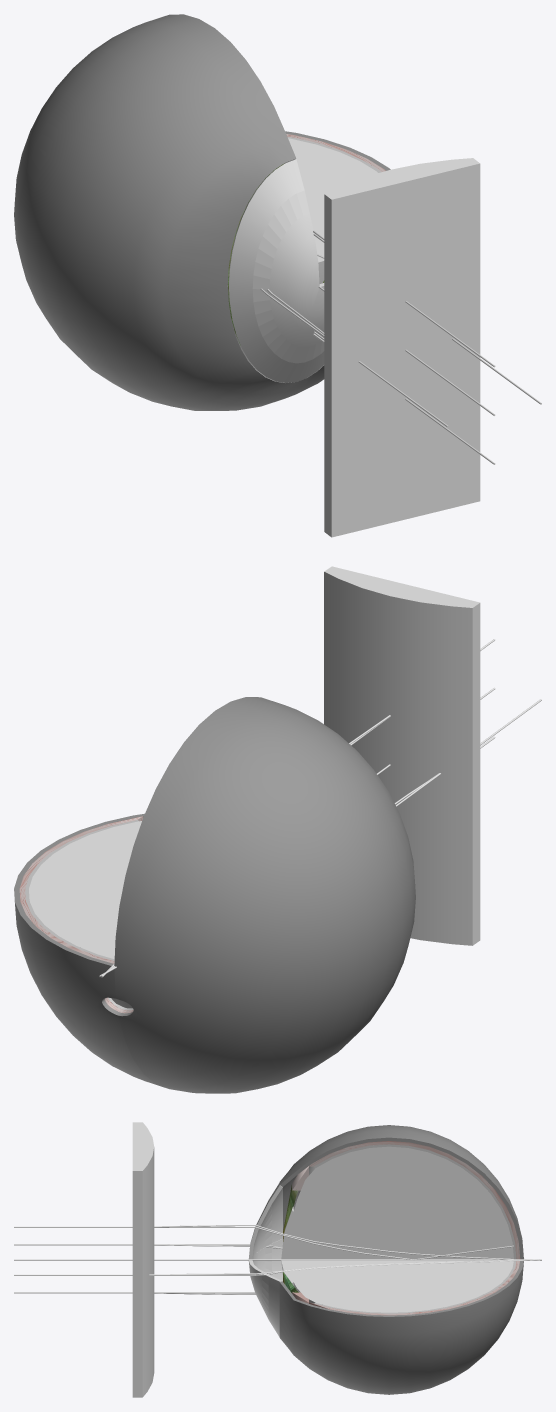
The model's file is AstigmatismEye.FBX.
The picture shows the model from 3 angles, top to bottom: view 1: azimuth 30°, elevation 25°; view 2: azimuth 150°, elevation 25°; view 3: azimuth 270°, elevation 25°; orthographic projection. The views are drawn at different scales.
Parts seen in each view (by area): view 1: bSclera, Box001, bCornea, aCorpusVitreum, aCornea, aSclera; view 2: bSclera, Box001, aCorpusVitreum, aSclera, aChoroidea, aRetina; view 3: bCorpusVitreum, aSclera, aCorpusVitreum, Box001, bSclera, aCornea, bCornea, bChoroidea, bLens, cBefore1, cBefore5, bRetina (+8 smaller).
Part boxes in pixels (x1,y1,x2,y2): bSclera: (14,14,296,410); Box001: (324,158,480,537); bCornea: (229,159,319,376); aCorpusVitreum: (288,138,378,246); aCornea: (266,283,324,382); aSclera: (227,131,390,405); bSclera: (114,697,415,1093); Box001: (324,566,480,945); aCorpusVitreum: (29,821,141,1007); aSclera: (14,813,164,1087); aChoroidea: (19,816,143,1012); aRetina: (25,820,138,1009); bCorpusVitreum: (293,1146,513,1259); aSclera: (279,1260,523,1394); aCorpusVitreum: (293,1260,513,1312); Box001: (132,1122,154,1397); bSclera: (279,1125,523,1259); aCornea: (248,1238,282,1336); bCornea: (248,1183,282,1259); bChoroidea: (309,1141,520,1259); bLens: (281,1206,311,1259); cBefore1: (14,1259,541,1260); cBefore5: (14,1259,541,1275); bRetina: (314,1144,516,1259).
Bounding box in the file's own units: 0.8504 × 0.8504 × 1.66.
